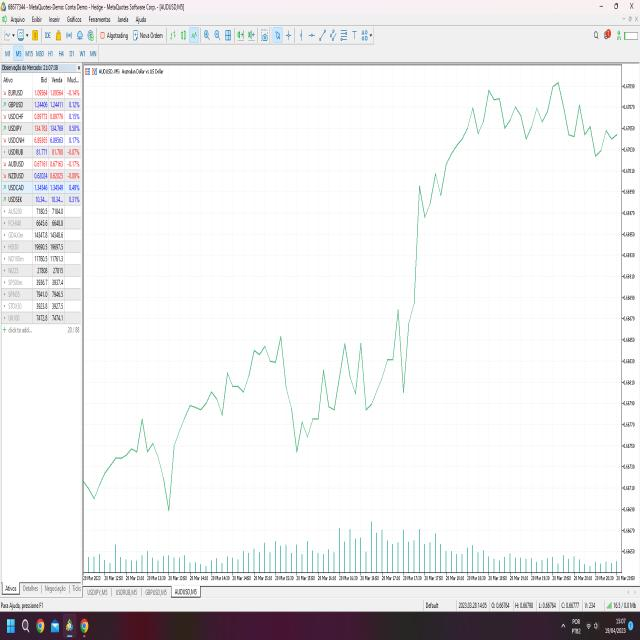fundo_duplo: (284, 386, 326, 469)
topo_duplo: (334, 335, 369, 430)
